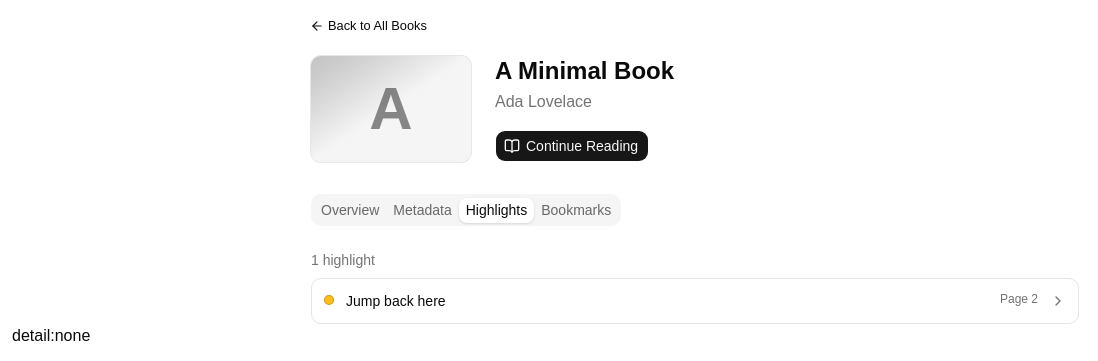
Test: BookDetail › opens the reader at the clicked highlight
Click the button with test id "detail-highlight-21". click: x=396, y=301
box: [312,279,1078,323]
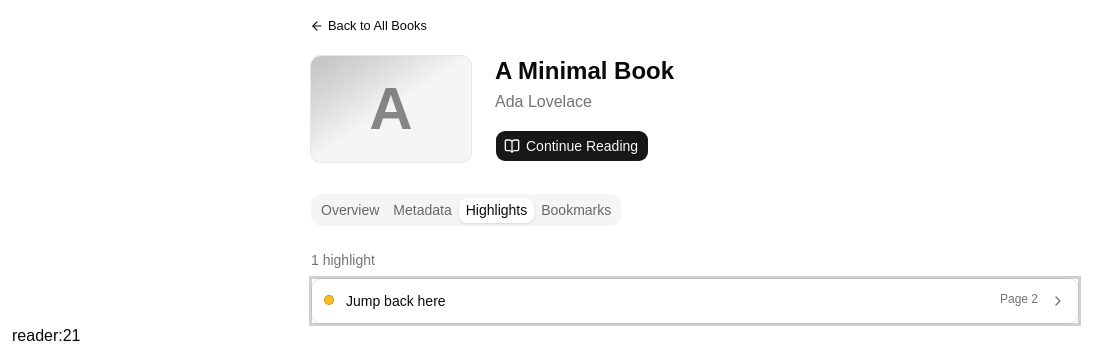
Now the text with test id "state-probe" reads "reader:21", box [12,327,80,344]
